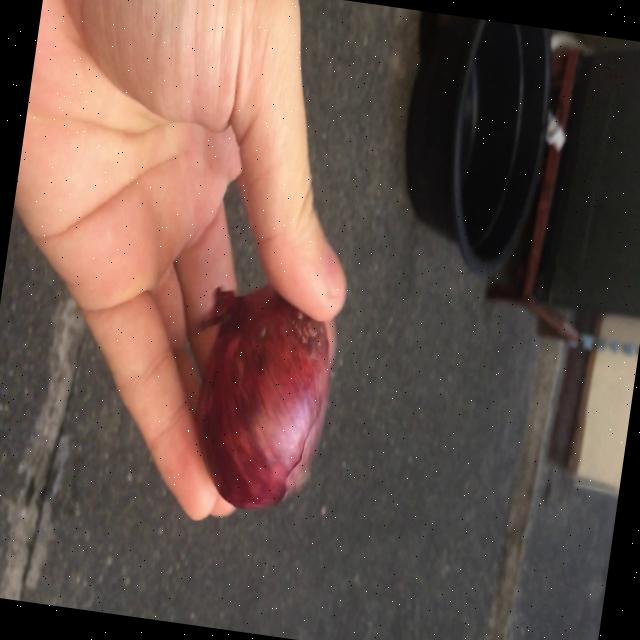Onion: (195, 285, 329, 508)
